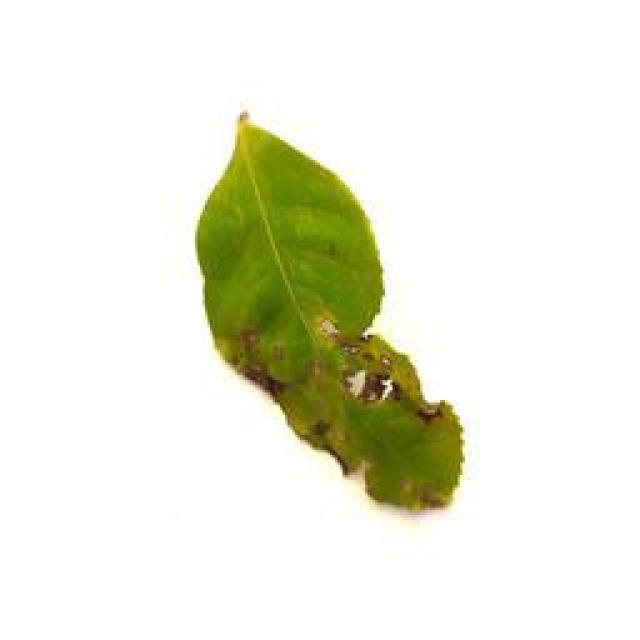Helopeltis: (193, 112, 473, 514)
